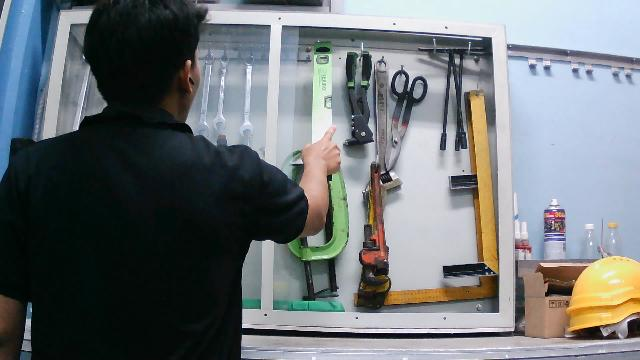water_pass: (305, 39, 337, 185)
